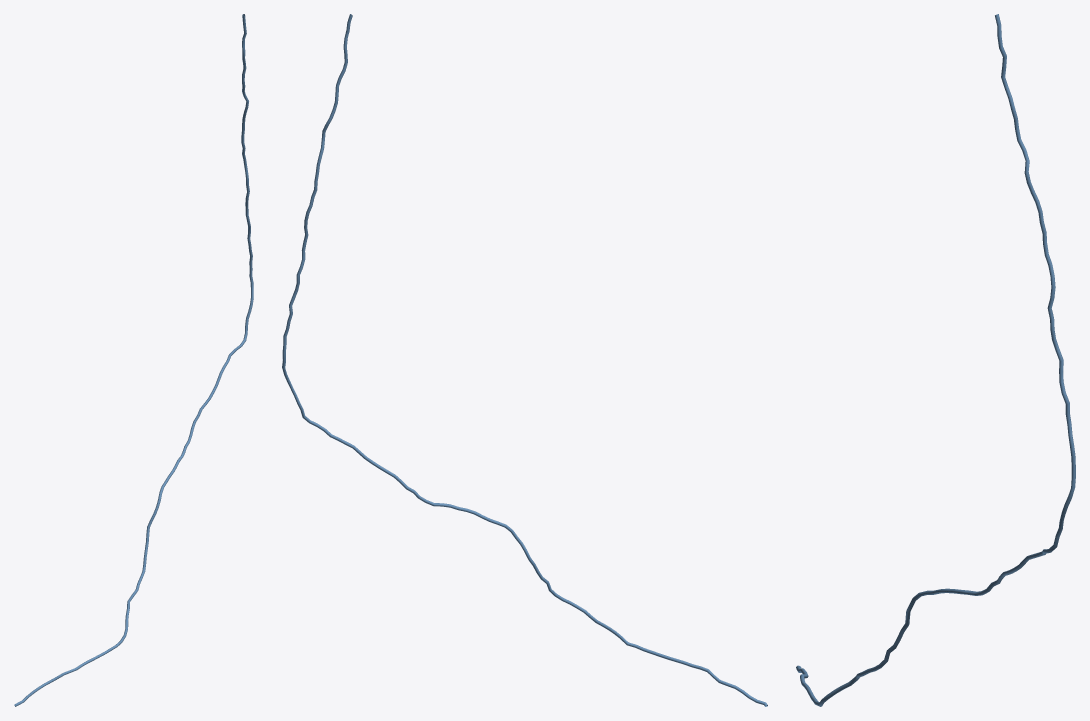
The model's file is sweep134.fbx.
3 renders of one model, left to right at view 1: azimuth 30°, elevation 25°; view 2: azimuth 150°, elevation 25°; view 3: azimuth 270°, elevation 25°, orthographic. The views are drawn at different scales.
Parts seen in each view (by area): view 1: sweep134; view 2: sweep134; view 3: sweep134.
Boxes of the visible parts, x1=… form: sweep134: x1=14, y1=14, x2=253, y2=706; sweep134: x1=282, y1=14, x2=767, y2=706; sweep134: x1=796, y1=14, x2=1075, y2=706.
Size of the model in its own units: 2.61 by 4.35 by 1.26.
